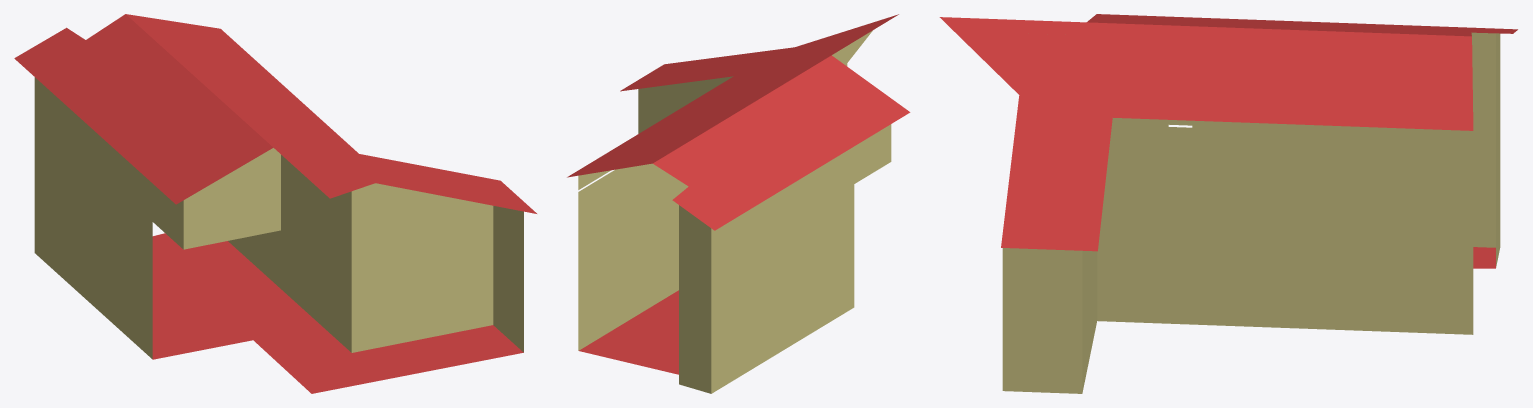
3 views of the same model, side by side, from view 1: azimuth 30°, elevation 25°; view 2: azimuth 150°, elevation 25°; view 3: azimuth 270°, elevation 25° (orthographic). The views are drawn at different scales.
Bounding box in the file's own units: 18.31 × 25.51 × 12.33.
